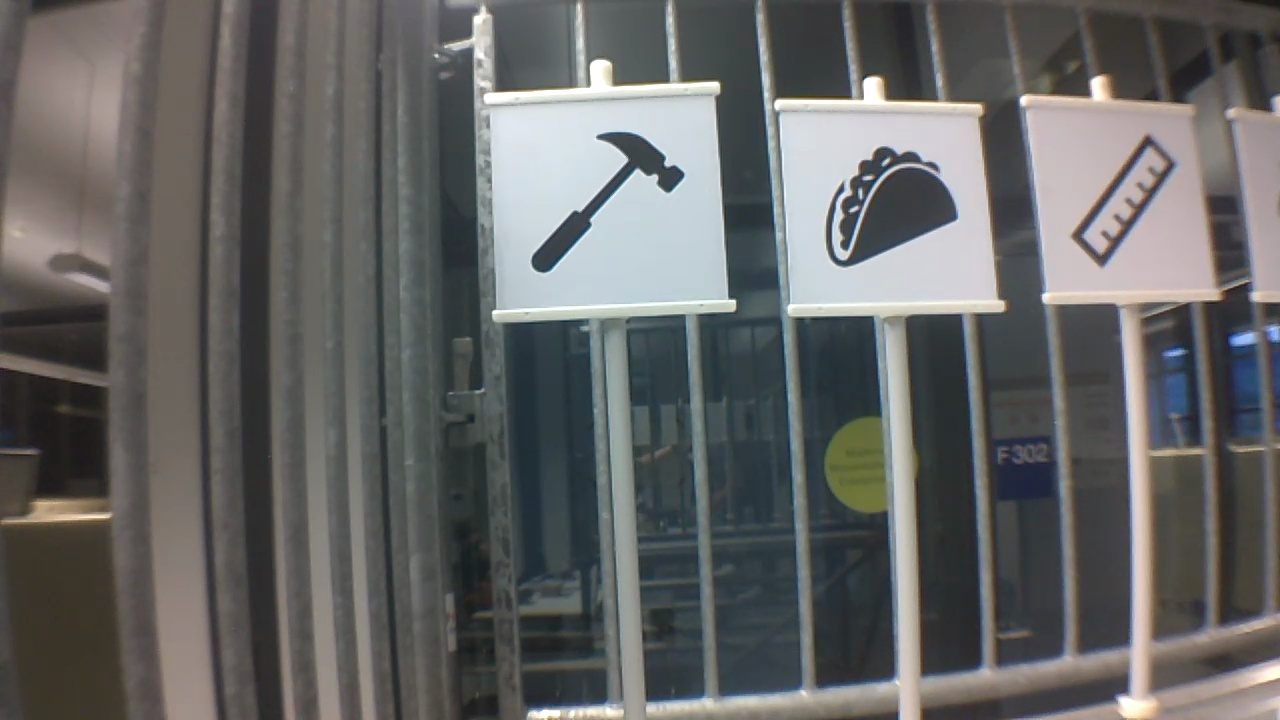hammer: (523, 125, 692, 278)
ruler: (1064, 129, 1183, 274)
taco: (817, 139, 961, 272)
